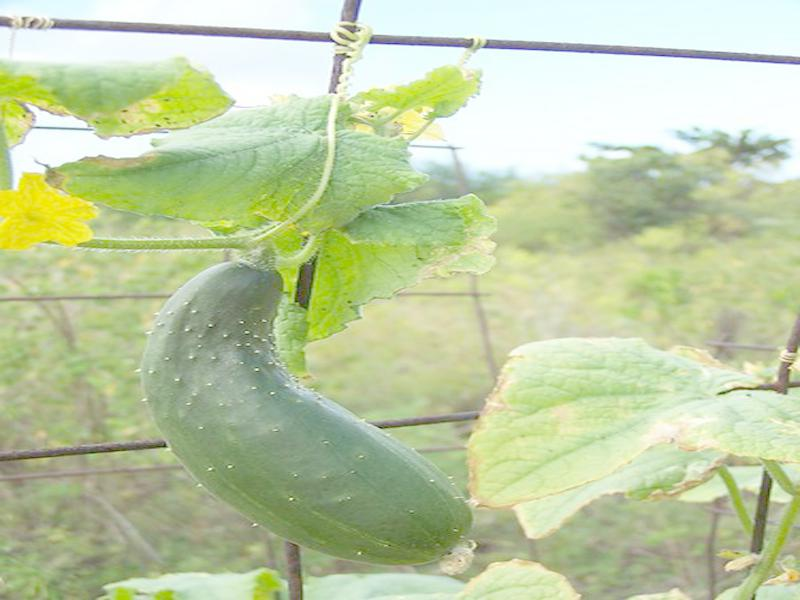Cucumber: (144, 257, 477, 566)
